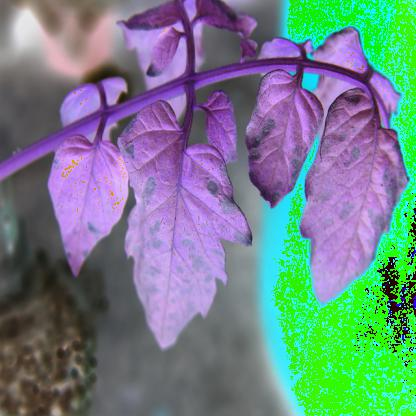tomato mold leaf: (111, 105, 251, 361), (294, 89, 411, 309), (44, 137, 132, 278), (245, 71, 324, 214)
